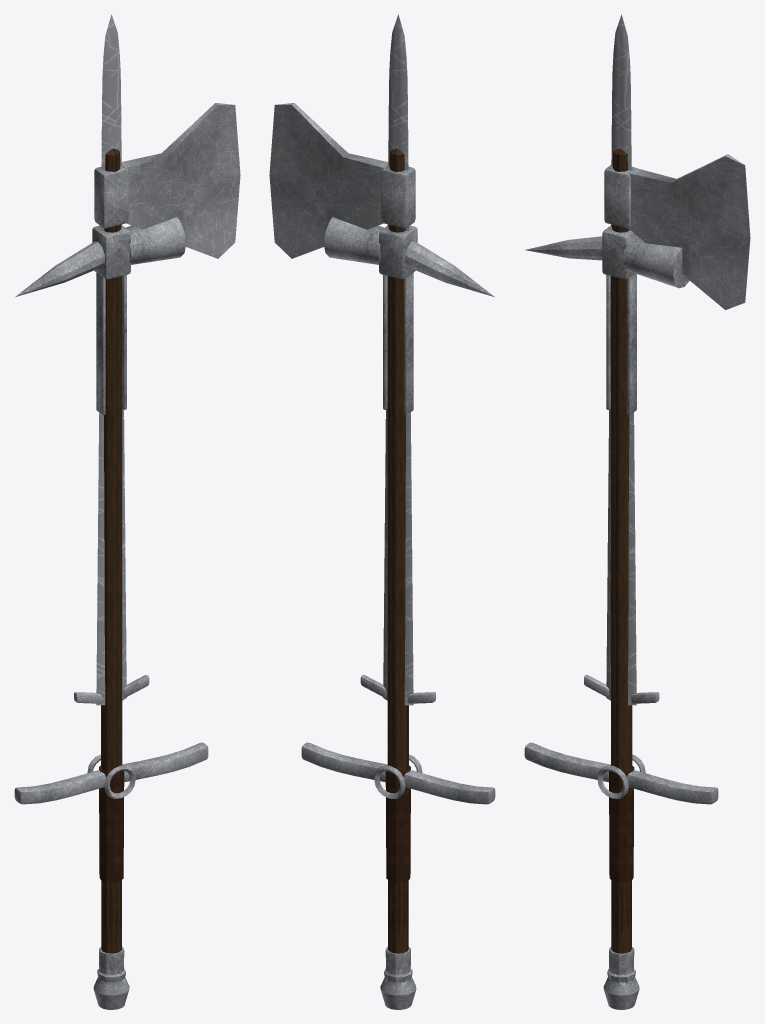
File: weapons.glb
3 renders of one model, left to right at view 1: azimuth 30°, elevation 25°; view 2: azimuth 150°, elevation 25°; view 3: azimuth 330°, elevation 25°, orthographic.
Parts seen in each view (by area): view 1: daneaxe, warhammer, greatsword; view 2: daneaxe, warhammer, greatsword; view 3: daneaxe, warhammer, greatsword.
Part boxes in pixels (x1,y1,x2,y2): daneaxe: (94,103,240,974); warhammer: (15,217,186,982); greatsword: (14,14,208,1009); daneaxe: (269,103,415,974); warhammer: (323,217,494,982); greatsword: (301,14,495,1009); daneaxe: (604,148,750,974); warhammer: (525,225,689,982); greatsword: (524,14,718,1009).
Bounding box in the file's own units: 0.4297 × 1.81 × 0.076.
5 materials, 5 textured.
